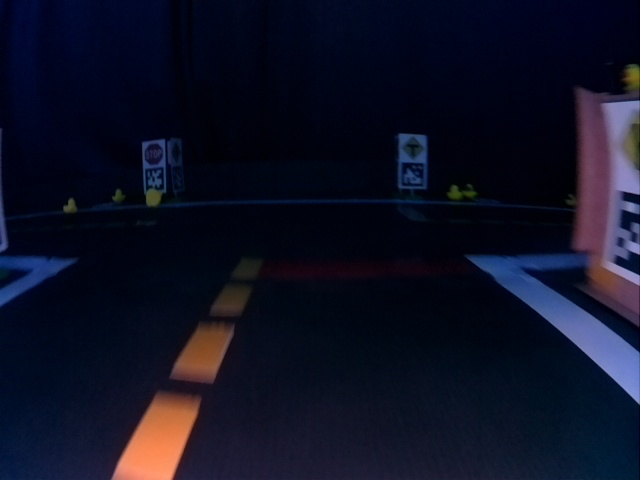Duckie: (624, 64, 637, 87), (448, 185, 462, 200), (148, 192, 162, 206), (63, 200, 77, 210), (111, 190, 122, 201), (466, 184, 475, 197)
Intersection sign: (400, 134, 425, 160)
QR code: (606, 190, 637, 279), (402, 163, 424, 186), (143, 169, 164, 189), (171, 169, 183, 189)
Stop sign: (144, 140, 163, 165)
